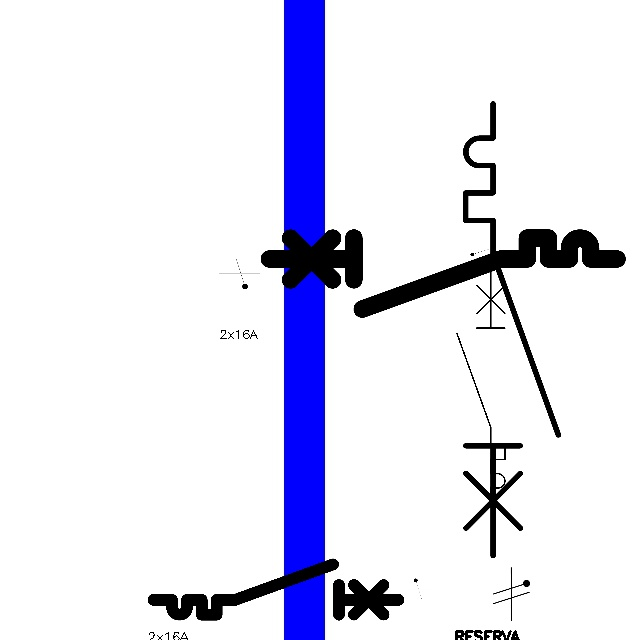interruptor_termomagnetico: (454, 92, 570, 567), (260, 229, 626, 318), (147, 558, 405, 621), (451, 265, 511, 512)
